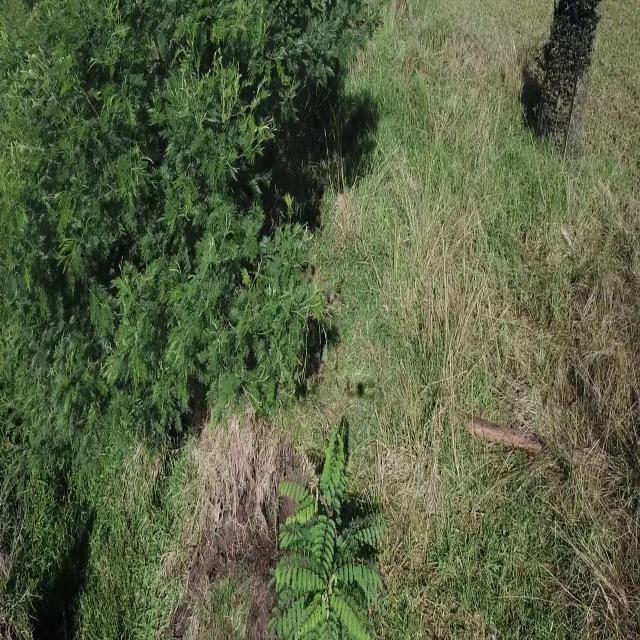Mysore-Thorn-Weed: (272, 425, 392, 640)
